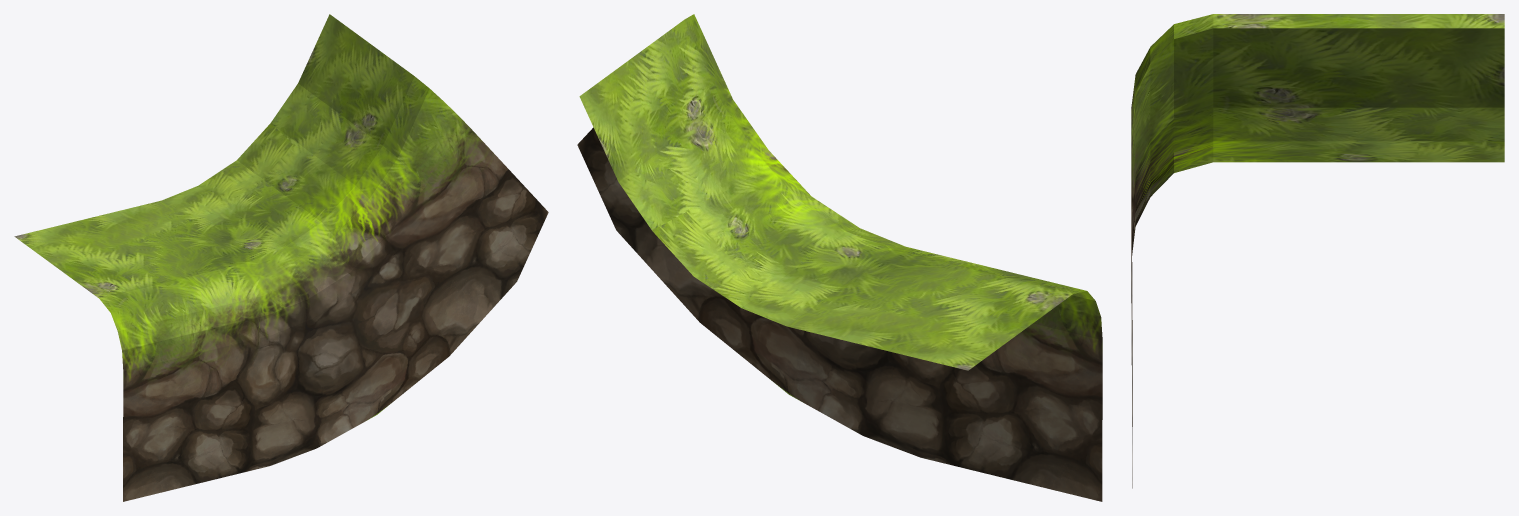
File: GRASS_UP.fbx
3 views of the same model, side by side, from view 1: azimuth 30°, elevation 25°; view 2: azimuth 150°, elevation 25°; view 3: azimuth 270°, elevation 25° (orthographic). The views are drawn at different scales.
Parts seen in each view (by area): view 1: Plane.001; view 2: Plane.001; view 3: Plane.001.
Boxes of the visible parts, x1,y1,x2,y2 form: Plane.001: (14,14,548,501); Plane.001: (577,14,1102,501); Plane.001: (1131,14,1504,488).
Size of the model in its own units: 1562 by 1162 by 693.
